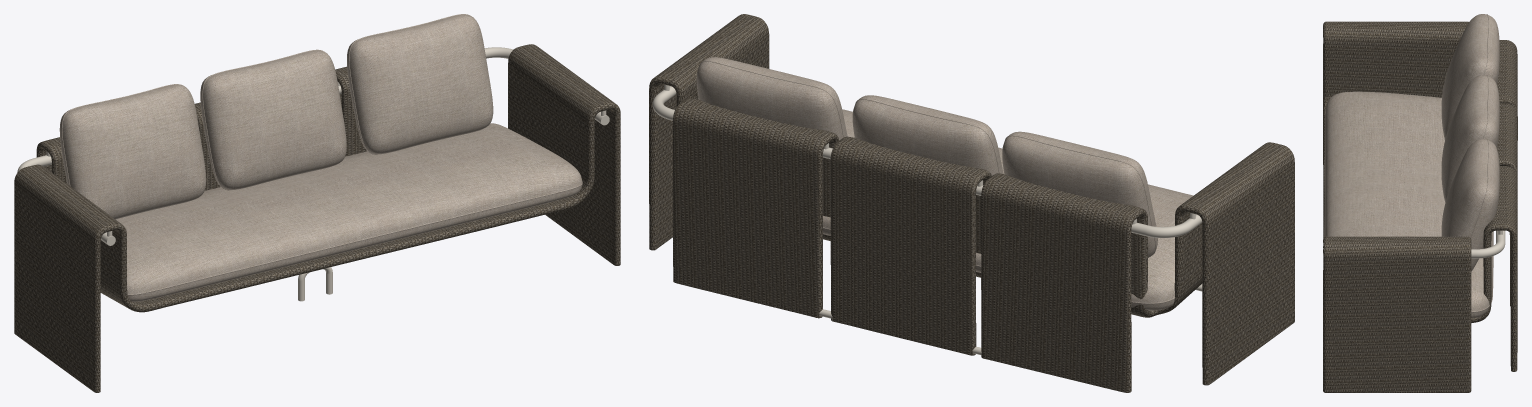
Rendered from kawa-three-seater-sofa.glb.
The picture shows the model from 3 angles, left to right: view 1: azimuth 30°, elevation 25°; view 2: azimuth 150°, elevation 25°; view 3: azimuth 270°, elevation 25°; orthographic projection. The views are drawn at different scales.
Visible parts, largest first — view 1: Three seater sofa.001, Three seater sofa, Three seater sofa.002; view 2: Three seater sofa, Three seater sofa.001, Three seater sofa.002; view 3: Three seater sofa, Three seater sofa.001, Three seater sofa.002.
Boxes of the visible parts, left/top/right/bottom form: Three seater sofa.001: left=59, top=14, right=582, bottom=302; Three seater sofa: left=14, top=44, right=620, bottom=392; Three seater sofa.002: left=17, top=47, right=609, bottom=301; Three seater sofa: left=649, top=14, right=1294, bottom=392; Three seater sofa.001: left=696, top=57, right=1193, bottom=310; Three seater sofa.002: left=652, top=84, right=1202, bottom=354; Three seater sofa: left=1323, top=21, right=1517, bottom=392; Three seater sofa.001: left=1324, top=14, right=1499, bottom=318; Three seater sofa.002: left=1471, top=230, right=1505, bottom=258.
Size of the model in its own units: 22.22 by 8.13 by 7.98.
Materials: 3 (2 with a texture image).
